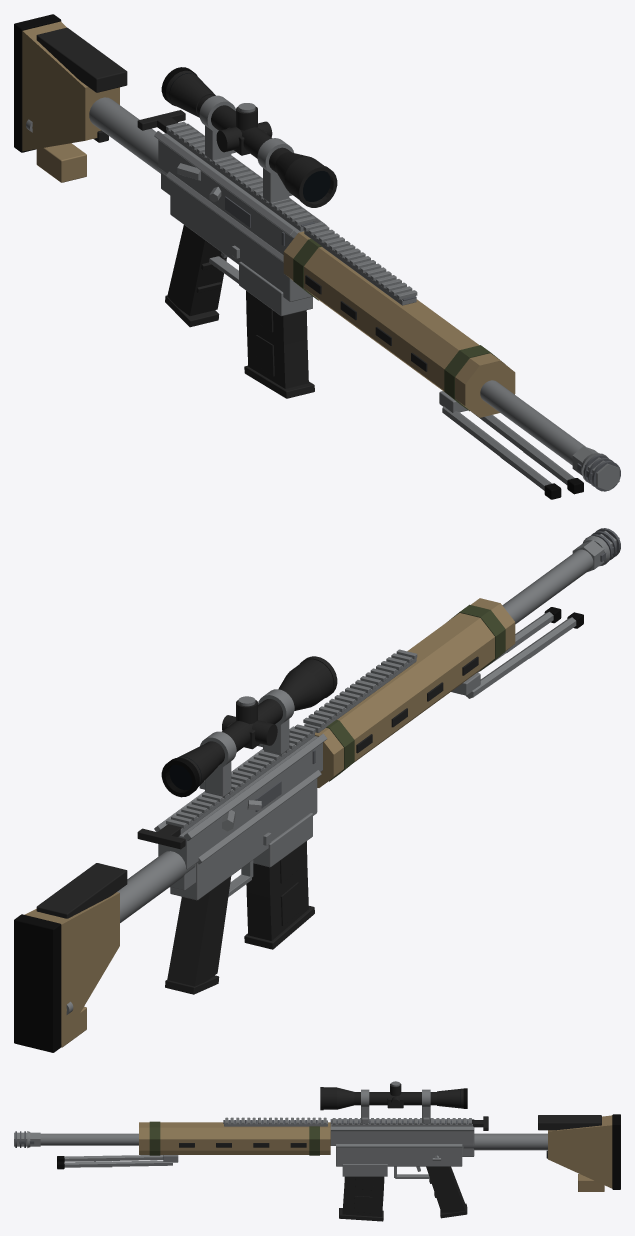
Rendered from Sar762Mt.obj.
3 views of the same model, one above another, from view 1: azimuth 30°, elevation 25°; view 2: azimuth 150°, elevation 25°; view 3: azimuth 270°, elevation 25° (orthographic). The views are drawn at different scales.
Parts seen in each view (by area): view 1: Body, Magazine; view 2: Body, Magazine; view 3: Body, Magazine.
Boxes of the visible parts, x1,y1,x2,y2 form: Body: (14, 14, 620, 499); Magazine: (244, 291, 314, 398); Body: (14, 528, 620, 1052); Magazine: (244, 841, 314, 949); Body: (14, 1081, 620, 1218); Magazine: (339, 1176, 384, 1221).
Size of the model in its own units: 0.0623 by 0.2793 by 1.14.
